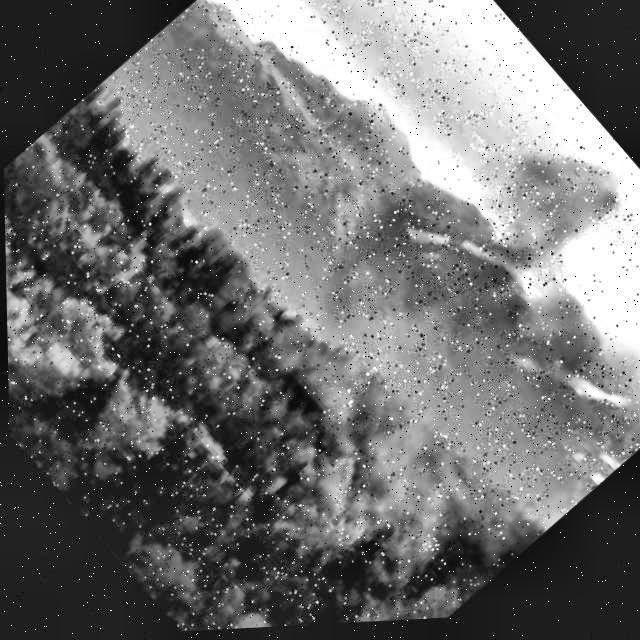Smoke: (137, 45, 640, 634)
